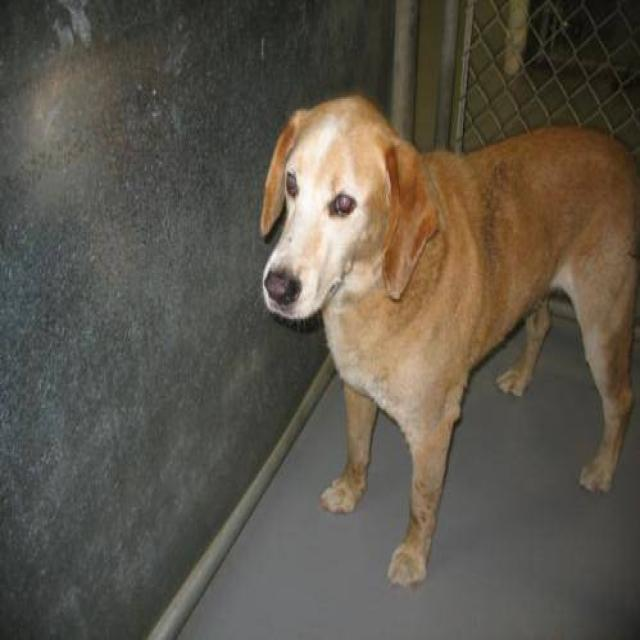dogs: (252, 93, 640, 575)
